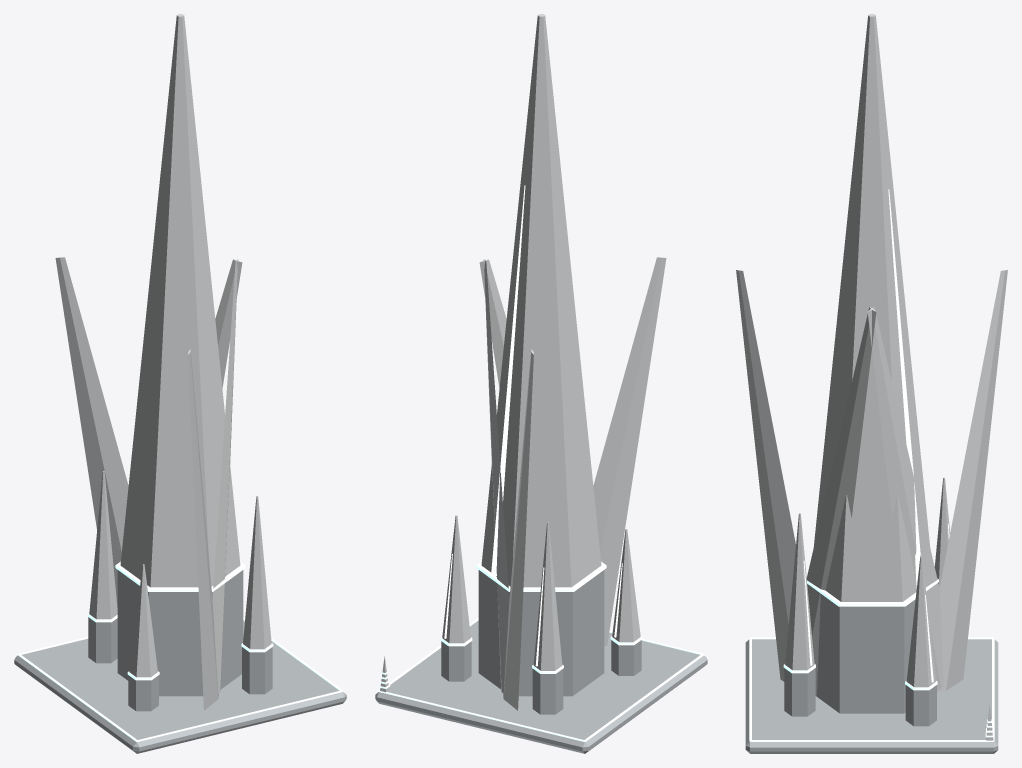
Rendered from zone_high_4_t4.glb.
3 renders of one model, left to right at view 1: azimuth 30°, elevation 25°; view 2: azimuth 150°, elevation 25°; view 3: azimuth 270°, elevation 25°, orthographic. The views are drawn at different scales.
Visible parts, largest first — view 1: zone_high_4_t4, detail; view 2: zone_high_4_t4, detail; view 3: zone_high_4_t4, detail.
Boxes of the visible parts, left/top/right/bottom form: zone_high_4_t4: left=14, top=14, right=346, bottom=753; detail: left=17, top=617, right=343, bottom=741; zone_high_4_t4: left=375, top=14, right=707, bottom=753; detail: left=378, top=617, right=704, bottom=741; zone_high_4_t4: left=736, top=14, right=1007, bottom=753; detail: left=749, top=637, right=994, bottom=741.
Bounding box in the file's own units: 27.5 × 83.21 × 29.57.
